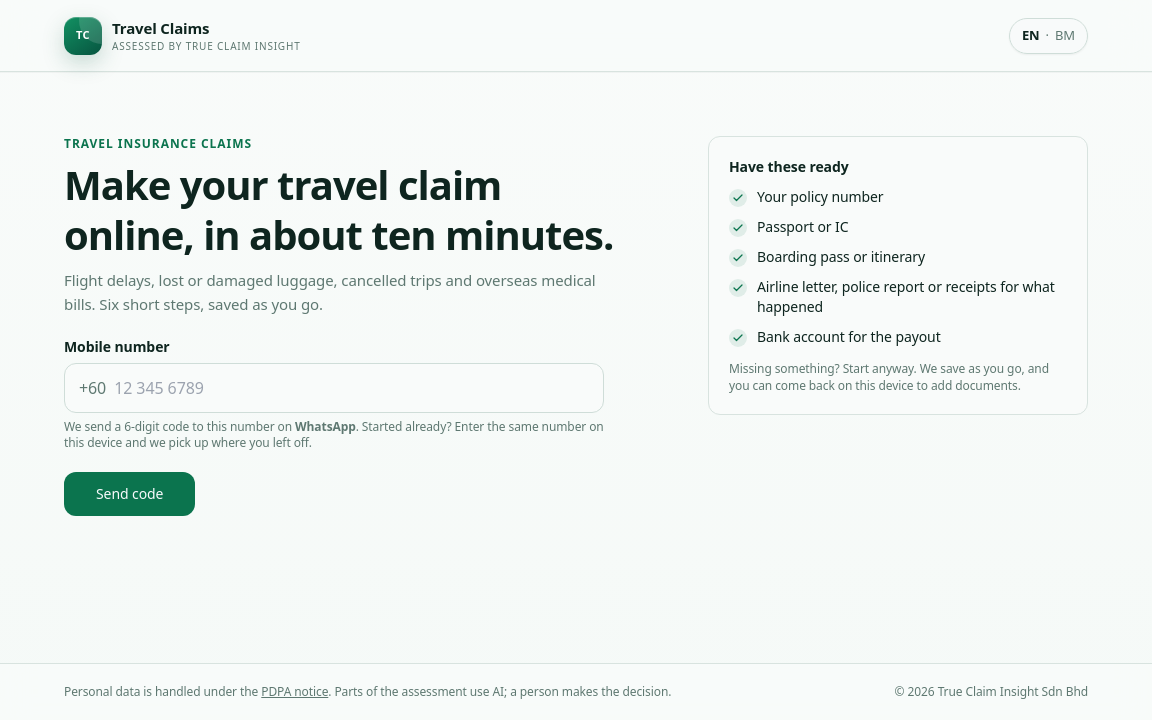
Scenario: the mobile number field › sends nothing when the number is too short, and says why
Type "12345" into the field labelled "Mobile number". click: (352, 388)
box: top-left (114, 364), bottom-right (589, 412)
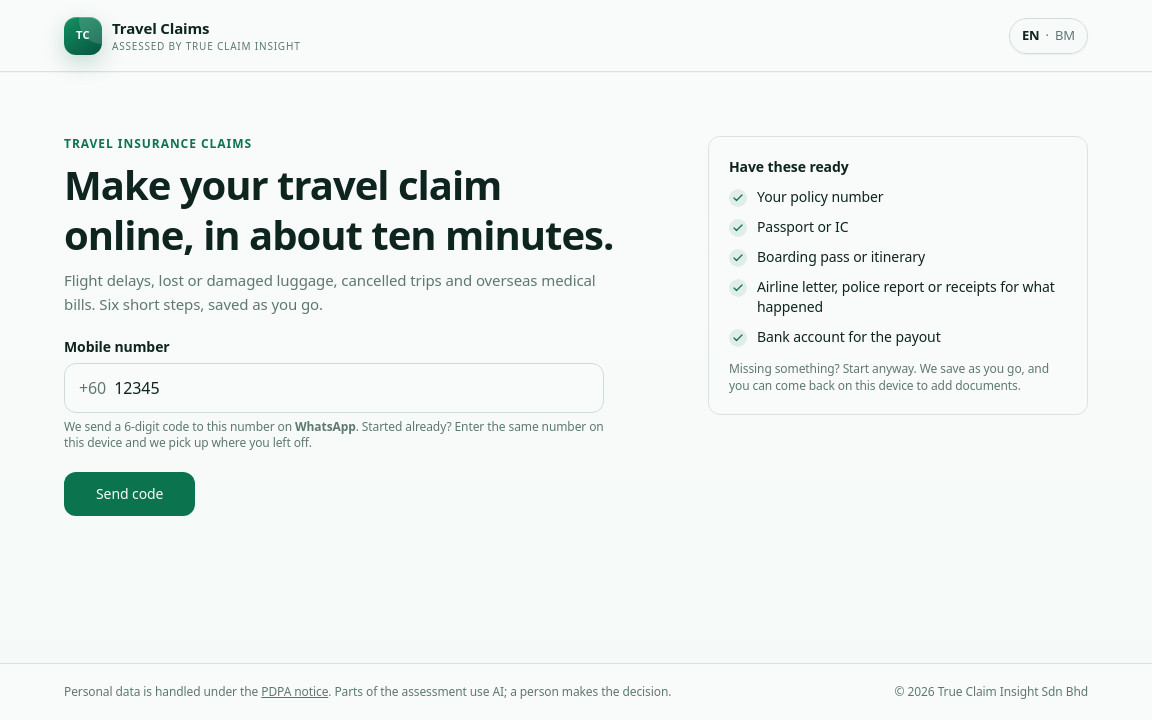
Click the button "Send code". click: (130, 494)
box: top-left (64, 472), bottom-right (195, 516)
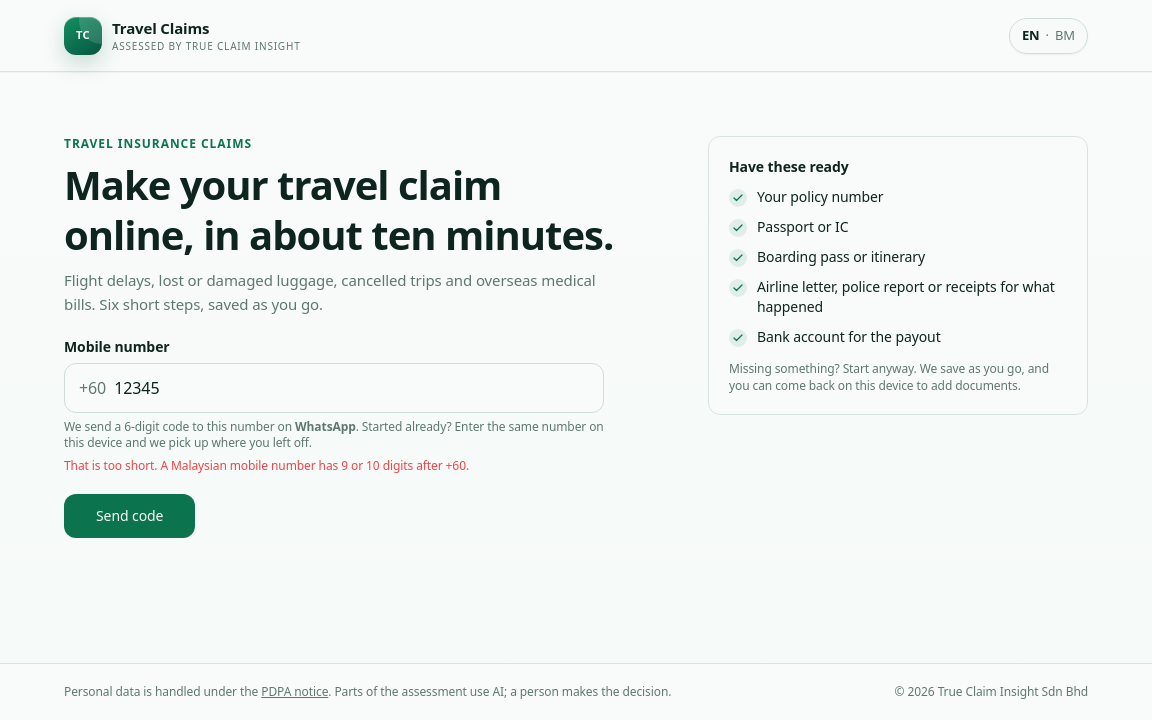
Now the message shows "too short", box top-left (64, 457), bottom-right (469, 474)
